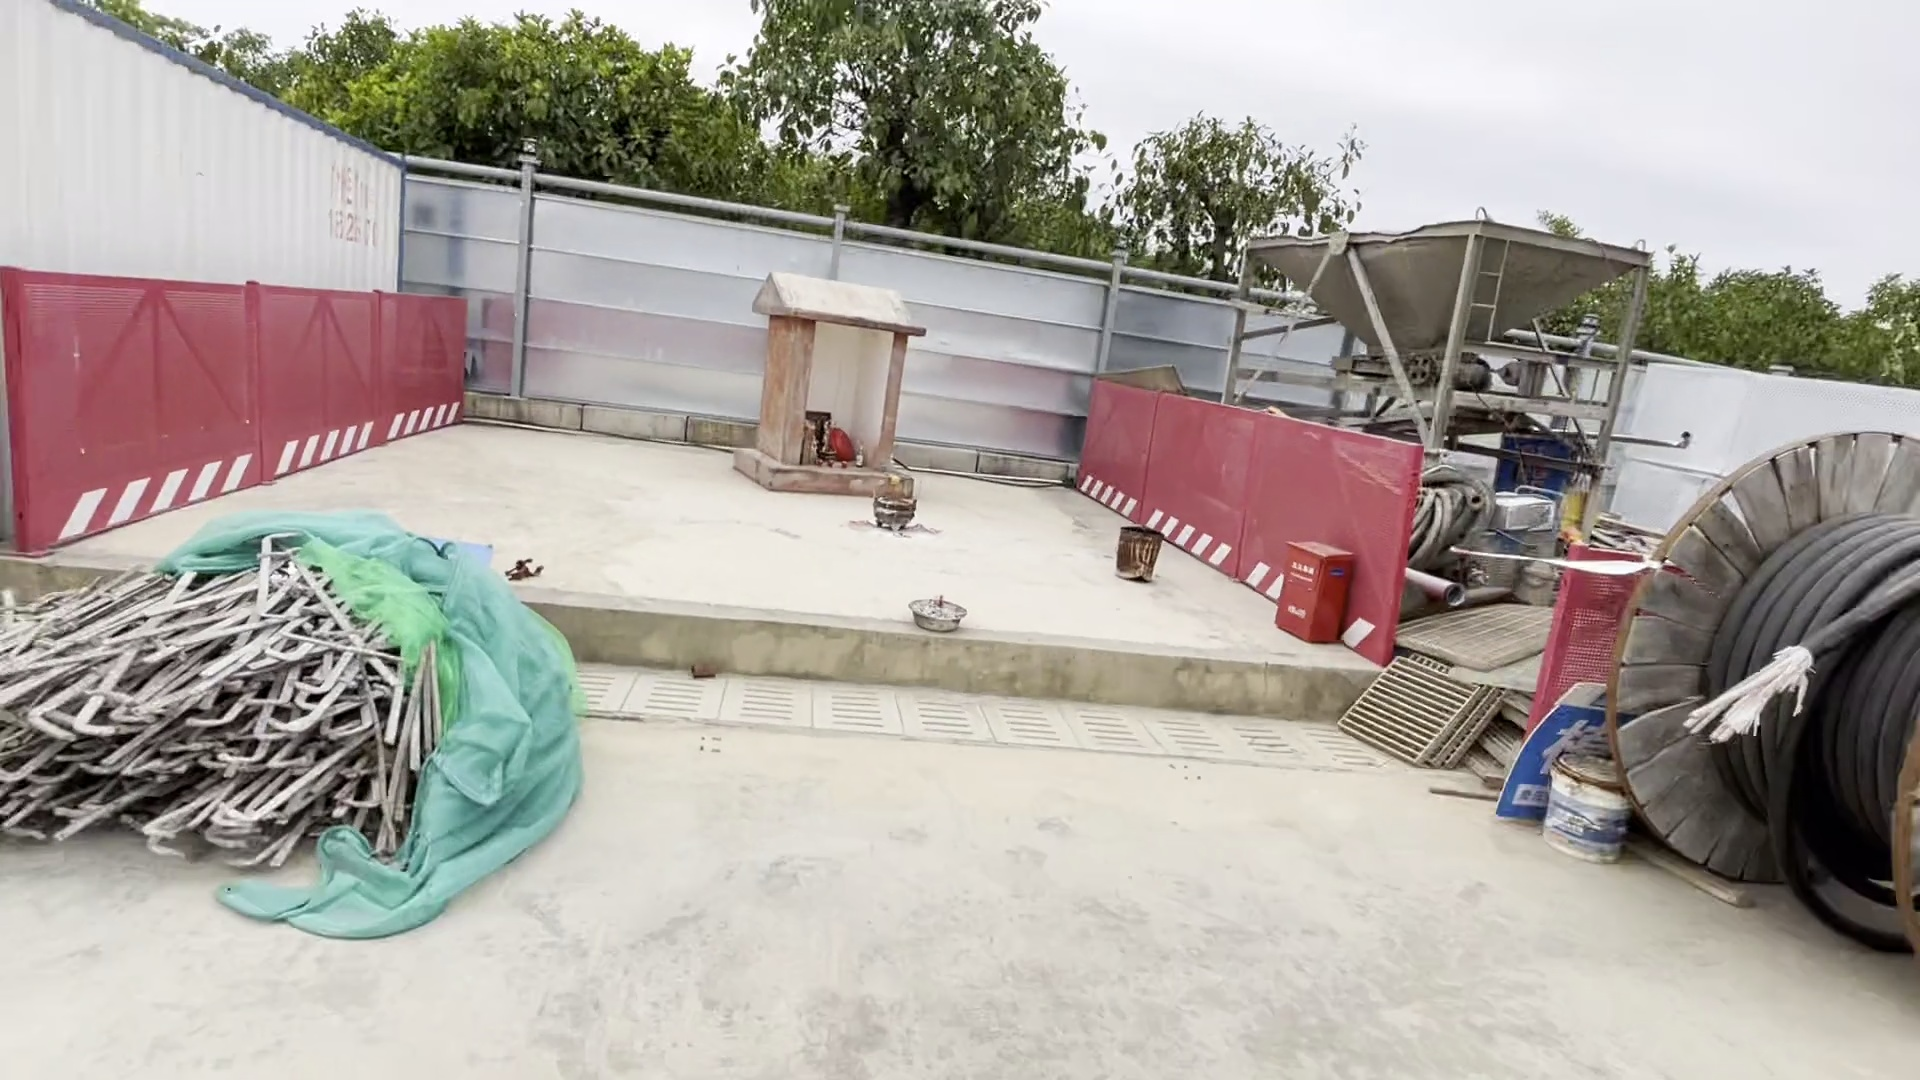fence: (8, 266, 471, 542), (1073, 372, 1425, 676)
